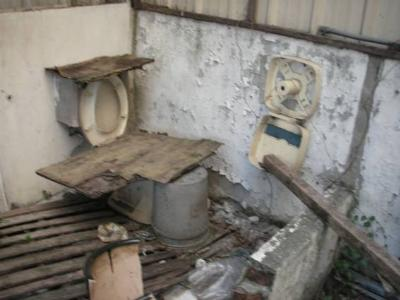bucket: (156, 161, 214, 252)
toilet: (76, 75, 162, 231)
